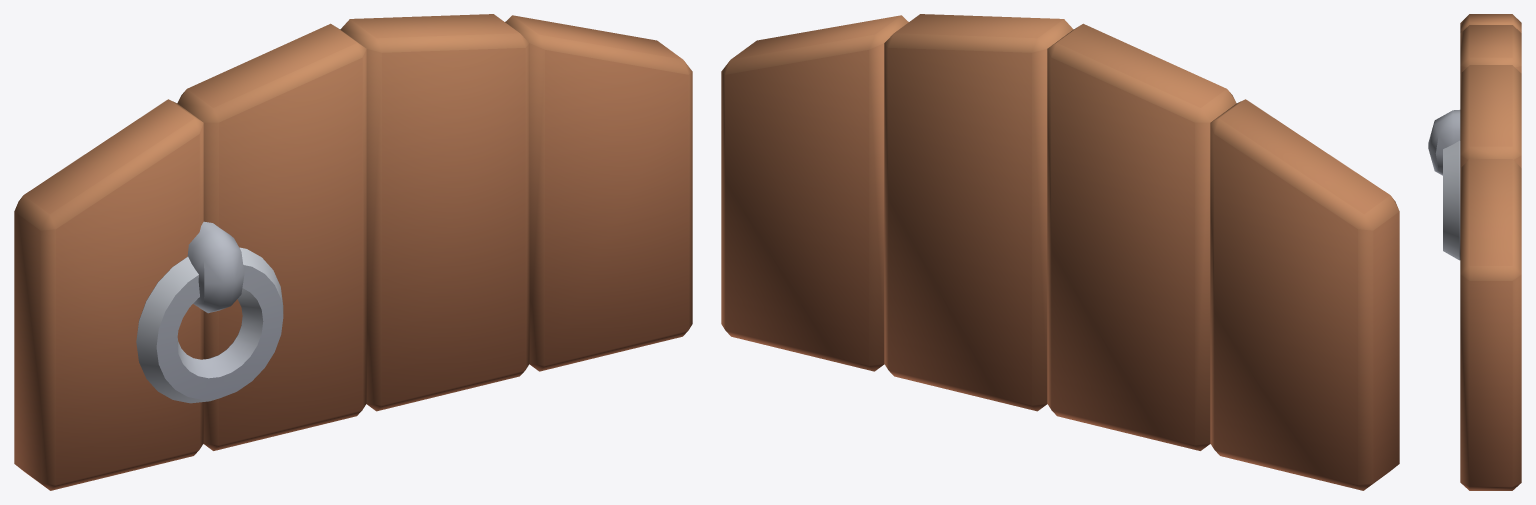
Rendered from Gate Single.glb.
3 renders of one model, left to right at view 1: azimuth 30°, elevation 25°; view 2: azimuth 150°, elevation 25°; view 3: azimuth 270°, elevation 25°, orthographic. The views are drawn at different scales.
Visible parts, largest first — view 1: gate_single; view 2: gate_single; view 3: gate_single.
Part boxes in pixels (box(x1,y1,x2,y2)): gate_single: box(14, 14, 692, 490); gate_single: box(721, 14, 1399, 490); gate_single: box(1428, 14, 1521, 490).
Size of the model in its own units: 2 by 1.09 by 0.3051.
Materials: 1 (1 with a texture image).
